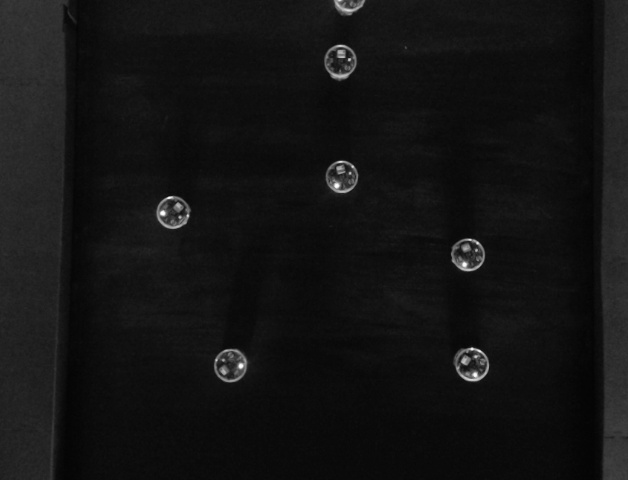epuck_2: (322, 42, 357, 83), (323, 159, 360, 195), (155, 195, 191, 231), (212, 349, 249, 383), (450, 238, 485, 272), (455, 347, 490, 380), (332, 1, 365, 18)
